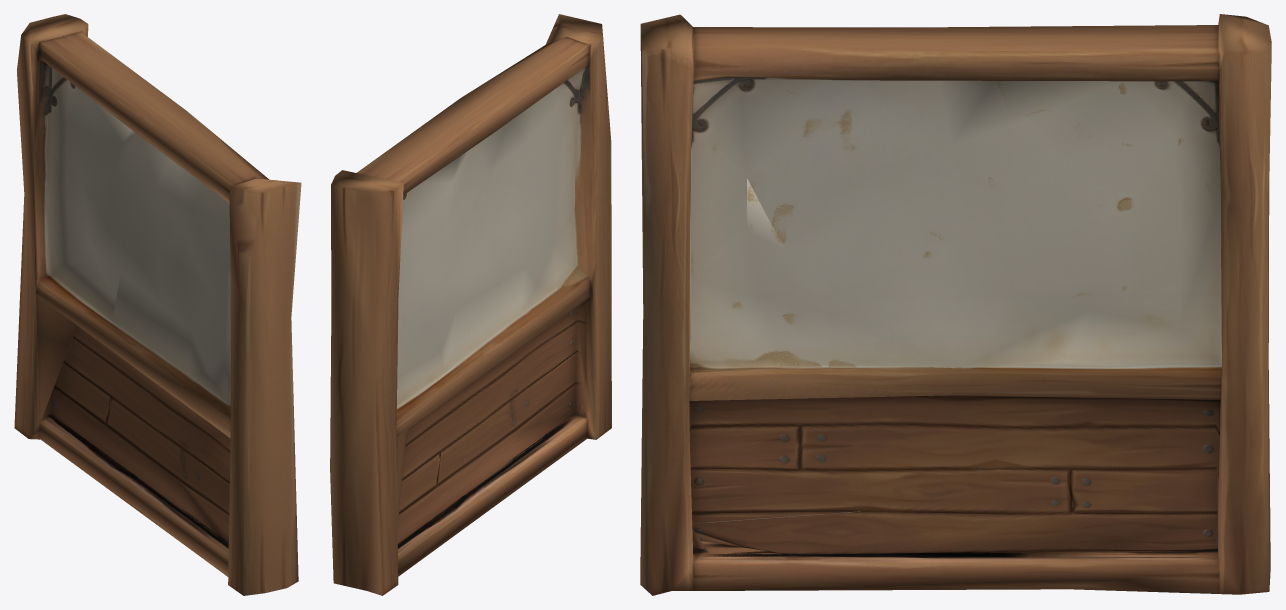
Rendered from tripo_convert_487a5f5c-d75b-4eeb-a477-0f3a2812a61e.fbx.
The picture shows the model from 3 angles, left to right: view 1: azimuth 30°, elevation 25°; view 2: azimuth 150°, elevation 25°; view 3: azimuth 270°, elevation 25°; orthographic projection. The views are drawn at different scales.
Visible parts, largest first — view 1: tripo_node_487a5f5c; view 2: tripo_node_487a5f5c; view 3: tripo_node_487a5f5c.
Part boxes in pixels (left/top/right/bottom): tripo_node_487a5f5c: left=14, top=14, right=301, bottom=595; tripo_node_487a5f5c: left=330, top=14, right=611, bottom=595; tripo_node_487a5f5c: left=640, top=14, right=1271, bottom=595.
Bounding box in the file's own units: 0.1456 × 0.9285 × 0.9767.
1 material, 1 textured.
